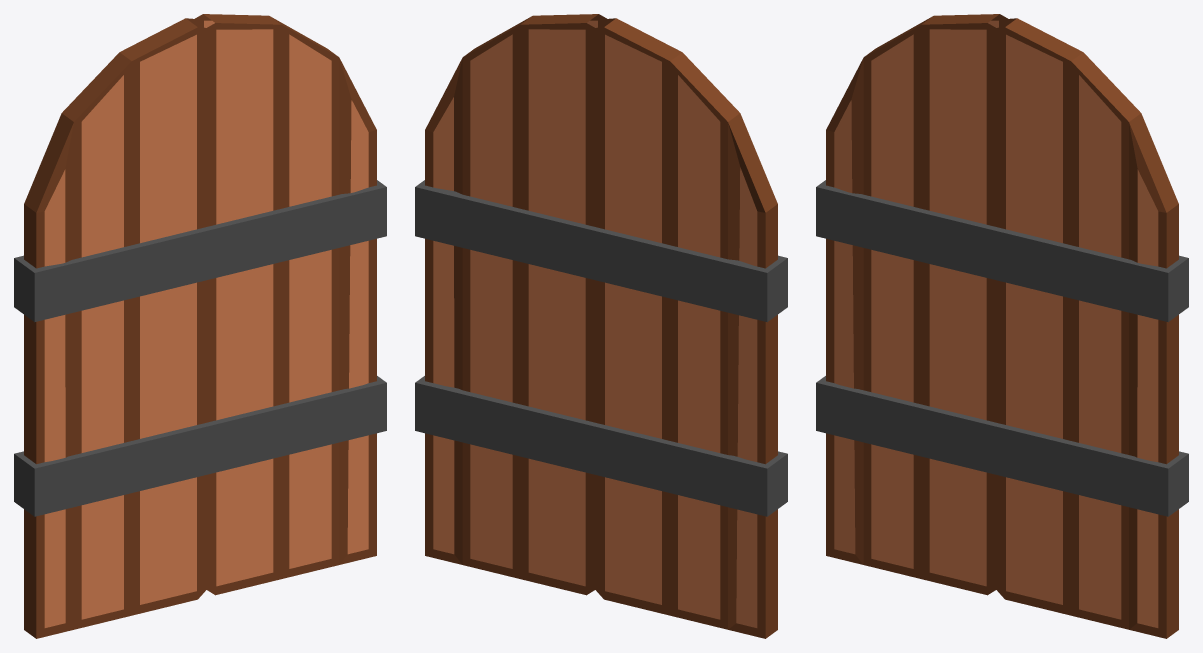
File: Puerta.fbx
3 renders of one model, left to right at view 1: azimuth 30°, elevation 25°; view 2: azimuth 150°, elevation 25°; view 3: azimuth 330°, elevation 25°, orthographic.
Parts seen in each view (by area): view 1: Cube; view 2: Cube; view 3: Cube.
Boxes of the visible parts, x1=… form: Cube: x1=14, y1=14, x2=386, y2=638; Cube: x1=415, y1=14, x2=787, y2=638; Cube: x1=816, y1=14, x2=1188, y2=638.
Bounding box in the file's own units: 236 × 366 × 23.7.
